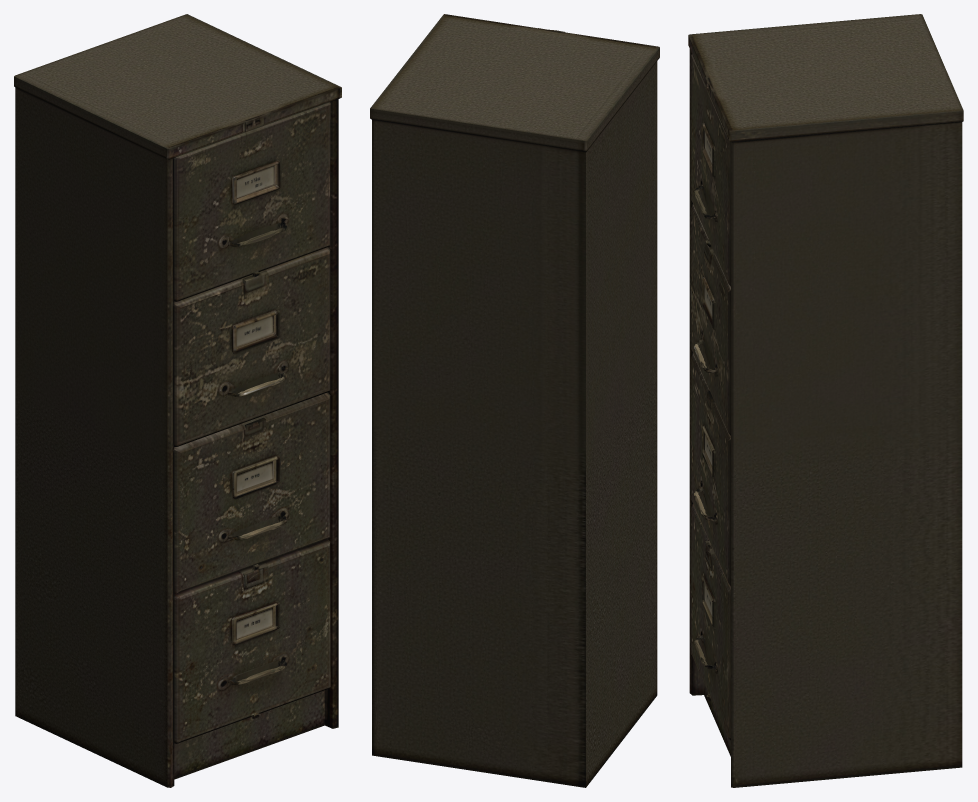
The picture shows the model from 3 angles, left to right: view 1: azimuth 30°, elevation 25°; view 2: azimuth 150°, elevation 25°; view 3: azimuth 270°, elevation 25°; orthographic projection. The views are drawn at different scales.
Visible parts, largest first — view 1: p_c_12_LOD0; view 2: p_c_12_LOD0; view 3: p_c_12_LOD0.
Part boxes in pixels (box(x1,y1,x2,y2)): p_c_12_LOD0: box(14, 14, 341, 787); p_c_12_LOD0: box(370, 14, 659, 787); p_c_12_LOD0: box(688, 14, 963, 787).
Size of what is drawn, in the model's own units: 68.75 by 179 by 68.05.
Materials: 1 (1 with a texture image).
